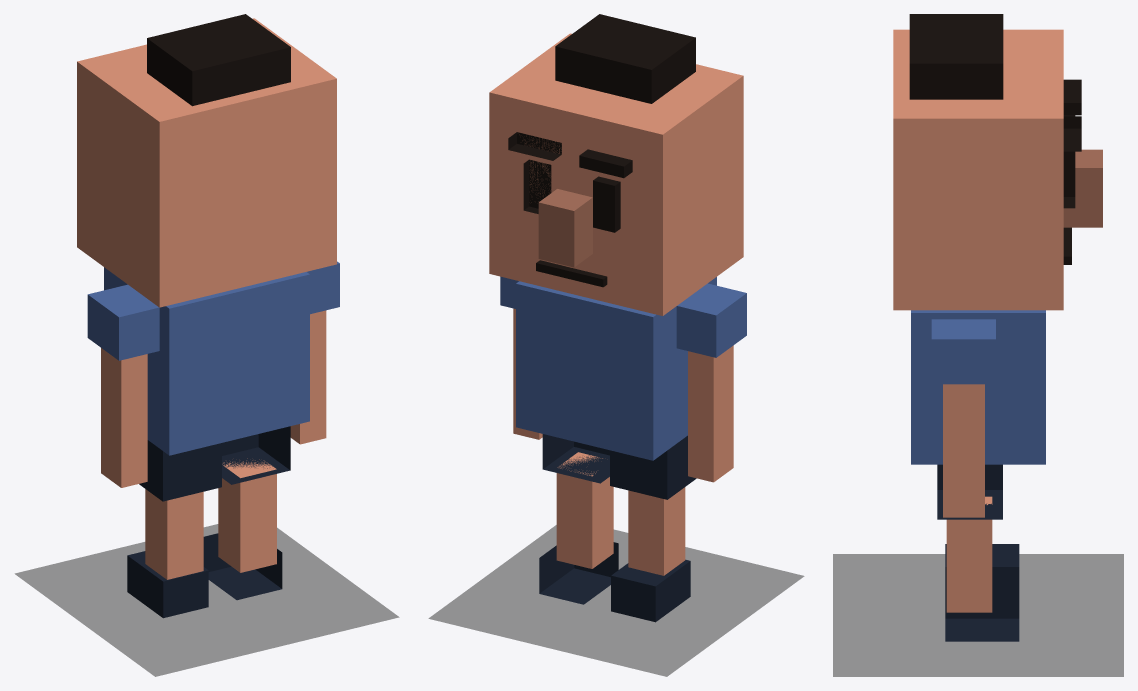
Rendered from bob.glb.
3 views of the same model, side by side, from view 1: azimuth 30°, elevation 25°; view 2: azimuth 150°, elevation 25°; view 3: azimuth 270°, elevation 25° (orthographic). The views are drawn at different scales.
Visible parts, largest first — view 1: personagem, rootPersonagem; view 2: personagem, rootPersonagem; view 3: personagem, rootPersonagem.
Boxes of the visible parts, x1,y1,x2,y2 form: personagem: (77,14,339,618); rootPersonagem: (15,524,398,676); personagem: (489,14,746,622); rootPersonagem: (429,525,803,676); personagem: (893,14,1102,641); rootPersonagem: (833,554,1123,676).
Size of the model in its own units: 1.28 by 2.81 by 1.28.
Materials: 2 (1 with a texture image).
